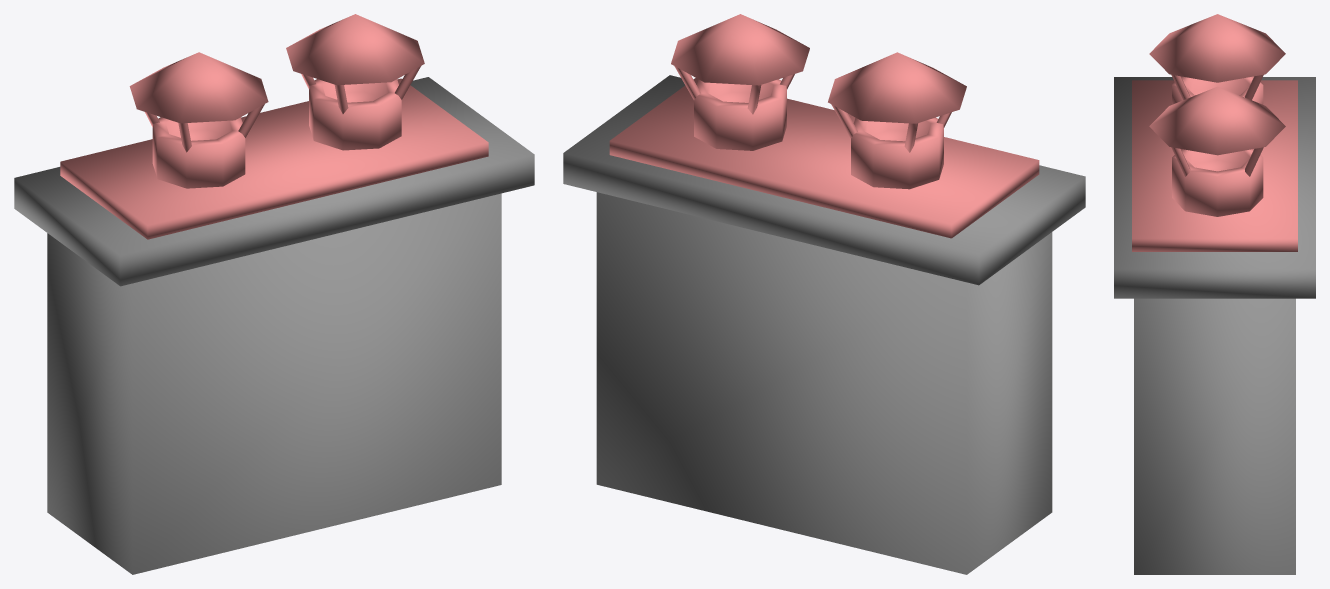
The model's file is SM_chimney_02.gltf.
3 renders of one model, left to right at view 1: azimuth 30°, elevation 25°; view 2: azimuth 150°, elevation 25°; view 3: azimuth 270°, elevation 25°, orthographic. The views are drawn at different scales.
Visible parts, largest first — view 1: SM_chimney_02; view 2: SM_chimney_02; view 3: SM_chimney_02.
Boxes of the visible parts, bbox=[...] form: SM_chimney_02: bbox=[14, 14, 534, 574]; SM_chimney_02: bbox=[563, 14, 1085, 574]; SM_chimney_02: bbox=[1114, 14, 1315, 574].
Bounding box in the file's own units: 2.25 × 2.4 × 0.9962.
